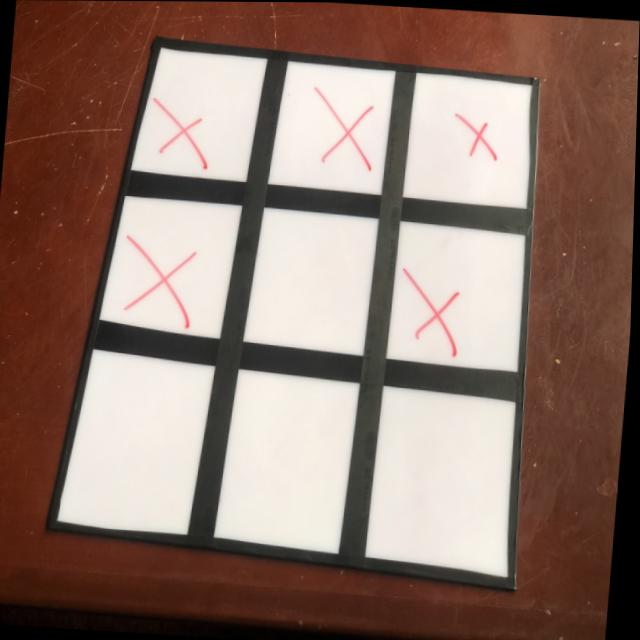null: (57, 343, 217, 538), (369, 385, 525, 579), (217, 369, 361, 555), (247, 206, 381, 357)
table: (51, 29, 577, 584)
x: (125, 233, 206, 320), (402, 263, 473, 355), (317, 89, 379, 173), (153, 104, 214, 167), (452, 113, 500, 162)
